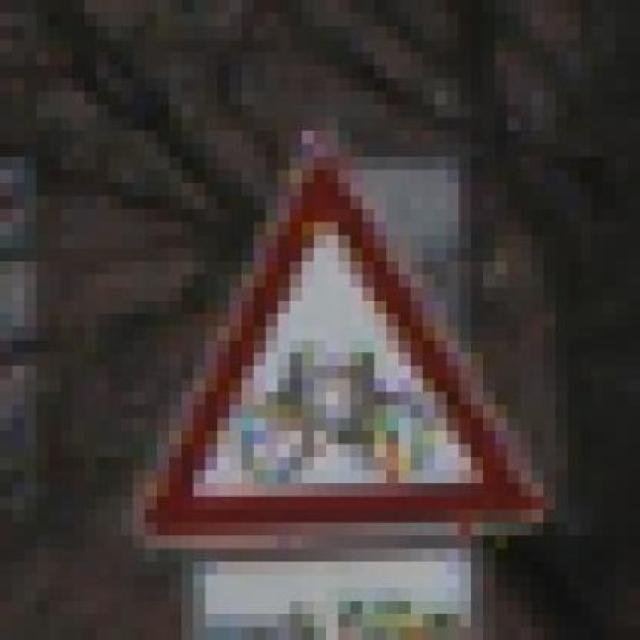CYCLE ROUTE AHEAD WARNING: (121, 104, 556, 562)
